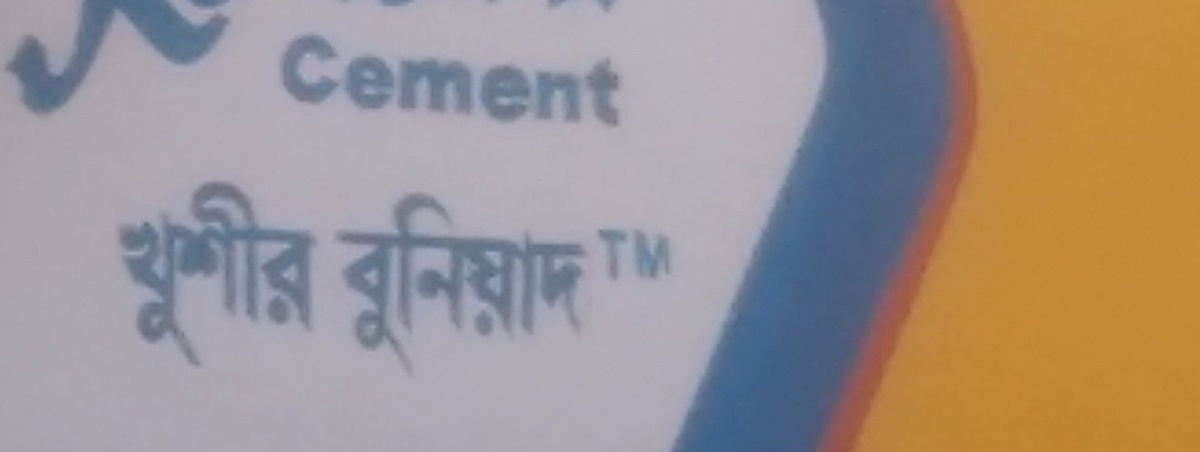text: (337, 183, 352, 382), (353, 183, 368, 382), (369, 183, 384, 382), (385, 183, 400, 382), (401, 183, 416, 382), (417, 183, 432, 382), (433, 183, 448, 382), (449, 183, 464, 382), (465, 183, 480, 382), (481, 183, 496, 382), (497, 183, 512, 382), (513, 183, 528, 382), (529, 183, 544, 382), (545, 183, 560, 382), (561, 183, 576, 382), (577, 183, 592, 382), (113, 175, 128, 373), (129, 175, 144, 373), (145, 175, 160, 373), (161, 175, 176, 373), (177, 175, 192, 373), (193, 175, 208, 373), (209, 175, 224, 373), (225, 175, 240, 373), (241, 175, 256, 373), (257, 175, 272, 373), (273, 175, 288, 373), (289, 175, 304, 373), (305, 175, 320, 373), (17, 1, 32, 123), (33, 1, 48, 123), (49, 1, 64, 123), (65, 1, 80, 123), (81, 1, 96, 123), (97, 1, 112, 123), (113, 1, 128, 123), (129, 1, 144, 123), (145, 1, 160, 123), (161, 1, 176, 123), (177, 1, 192, 123), (193, 1, 208, 123), (209, 1, 224, 123), (225, 1, 240, 123), (2, 1, 16, 123), (289, 27, 304, 137), (305, 27, 320, 137), (321, 27, 336, 137), (337, 27, 352, 137), (353, 27, 368, 137), (369, 27, 384, 137), (385, 27, 400, 137), (401, 27, 416, 137), (417, 27, 432, 137), (433, 27, 448, 137), (449, 27, 464, 137), (465, 27, 480, 137), (481, 27, 496, 137), (497, 27, 512, 137), (513, 27, 528, 137), (529, 27, 544, 137), (545, 27, 560, 137), (561, 27, 576, 137), (577, 27, 592, 137), (593, 27, 608, 137), (609, 27, 624, 137), (321, 175, 327, 373), (593, 183, 598, 382), (107, 175, 112, 373), (609, 222, 624, 288), (625, 222, 640, 288), (641, 222, 656, 288), (657, 222, 672, 288), (597, 222, 608, 288), (241, 1, 246, 123), (333, 183, 336, 382), (673, 222, 679, 288), (625, 27, 627, 137), (385, 1, 400, 12), (401, 1, 416, 12), (417, 1, 432, 12), (433, 1, 448, 12), (449, 1, 464, 12), (465, 1, 480, 12), (481, 1, 496, 12), (497, 1, 512, 12), (513, 1, 528, 12), (529, 1, 544, 12), (545, 1, 560, 12), (561, 1, 576, 12), (577, 1, 592, 12), (593, 1, 608, 12), (609, 1, 620, 12), (381, 1, 384, 12)
